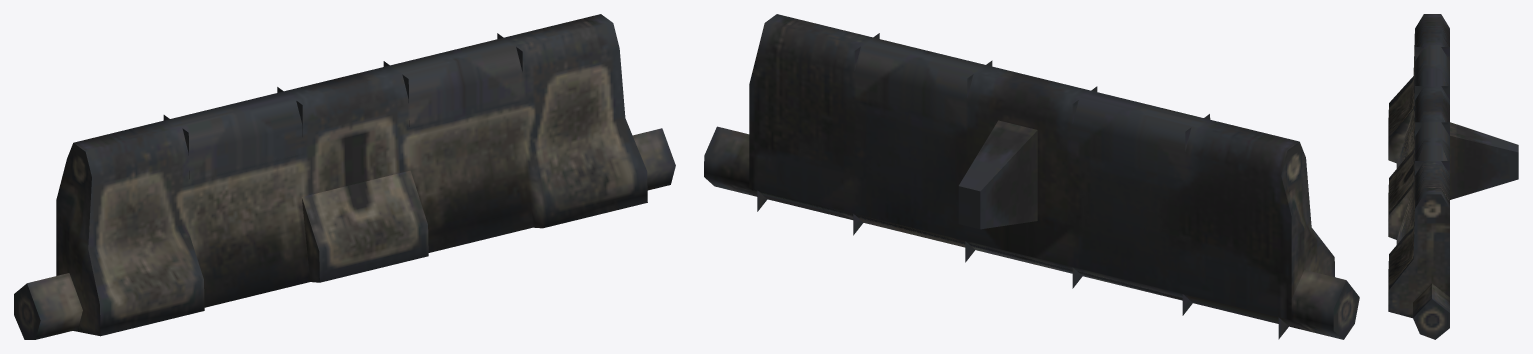
The picture shows the model from 3 angles, left to right: view 1: azimuth 30°, elevation 25°; view 2: azimuth 150°, elevation 25°; view 3: azimuth 270°, elevation 25°; orthographic projection. The views are drawn at different scales.
Visible parts, largest first — view 1: set_0_group_0; view 2: set_0_group_0; view 3: set_0_group_0.
Boxes of the visible parts, box(x1,y1,x2,y2) form: set_0_group_0: box(14, 14, 675, 339); set_0_group_0: box(704, 14, 1359, 339); set_0_group_0: box(1388, 14, 1518, 339).
Size of the model in its own units: 0.5814 by 0.1634 by 0.1478.
1 material, 1 textured.
